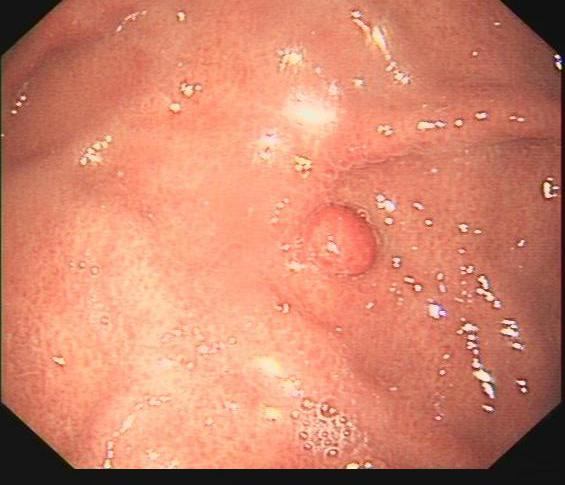Polyp: (285, 184, 398, 284)
